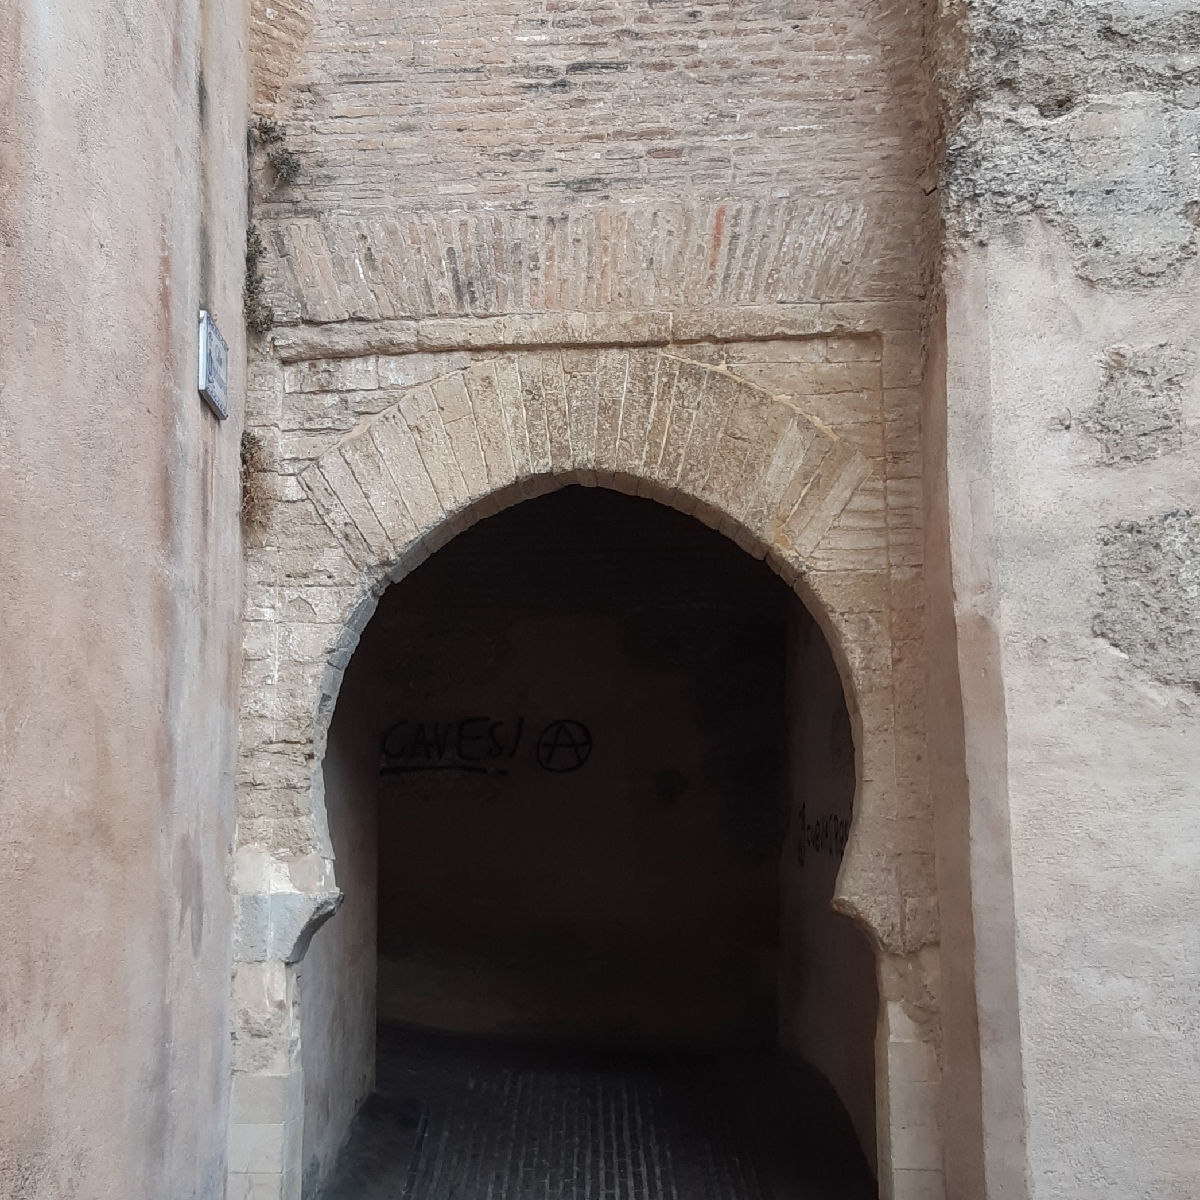arco-herradura: (257, 416, 918, 964)
